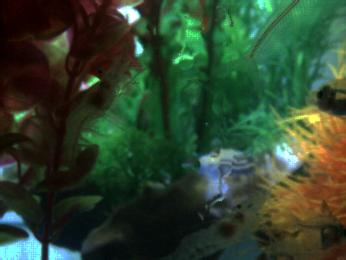X-ray fish: (283, 207, 346, 251), (305, 77, 346, 123)
glassfish: (220, 1, 322, 80)
siberian prawn: (59, 45, 133, 177), (164, 186, 277, 260)
